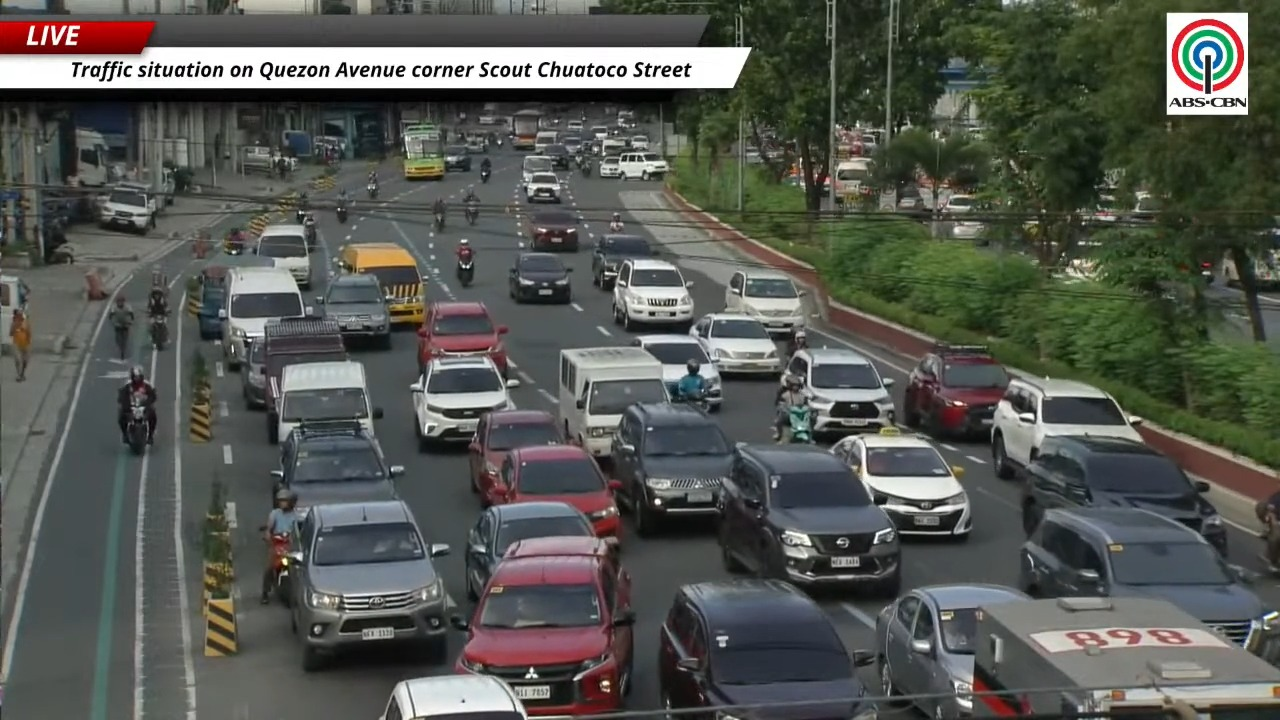bus: (403, 123, 444, 179), (1251, 230, 1279, 290), (511, 109, 541, 150)
car: (1020, 508, 1279, 661), (658, 579, 876, 719), (450, 554, 635, 716), (717, 444, 901, 596), (289, 500, 449, 671), (1020, 436, 1226, 555), (875, 583, 1029, 719), (611, 403, 733, 536), (832, 428, 971, 540), (991, 377, 1142, 479), (480, 444, 620, 536), (464, 502, 594, 600), (271, 420, 403, 511), (903, 344, 1009, 436), (410, 356, 513, 450), (782, 348, 894, 434), (468, 409, 563, 493), (632, 334, 722, 411), (417, 301, 508, 377), (378, 674, 526, 719), (612, 258, 693, 330), (689, 313, 782, 375), (315, 274, 390, 348), (725, 268, 806, 334), (504, 534, 625, 572), (592, 233, 654, 290), (509, 252, 572, 303), (98, 187, 155, 233), (525, 209, 579, 251), (240, 339, 267, 409), (619, 150, 669, 180), (522, 154, 553, 192), (525, 172, 562, 203), (895, 183, 926, 213), (939, 194, 978, 215), (444, 145, 471, 171), (543, 144, 571, 169), (597, 156, 620, 178), (562, 135, 583, 155), (466, 133, 487, 153), (590, 125, 609, 142), (629, 135, 649, 150), (477, 114, 499, 125), (566, 120, 583, 132)
motorcycle: (272, 534, 291, 606), (1258, 512, 1279, 574), (125, 399, 148, 454), (667, 381, 709, 410), (785, 404, 813, 443), (785, 330, 807, 361), (150, 315, 168, 350), (456, 256, 473, 287), (224, 234, 245, 255), (304, 215, 317, 248), (464, 205, 478, 225), (434, 212, 444, 232), (336, 205, 347, 223), (367, 182, 378, 198), (580, 162, 591, 177), (295, 208, 306, 223), (480, 169, 490, 183), (609, 222, 623, 232), (496, 137, 502, 147)
truck: (972, 597, 1279, 719), (258, 317, 347, 443), (72, 127, 109, 187)
